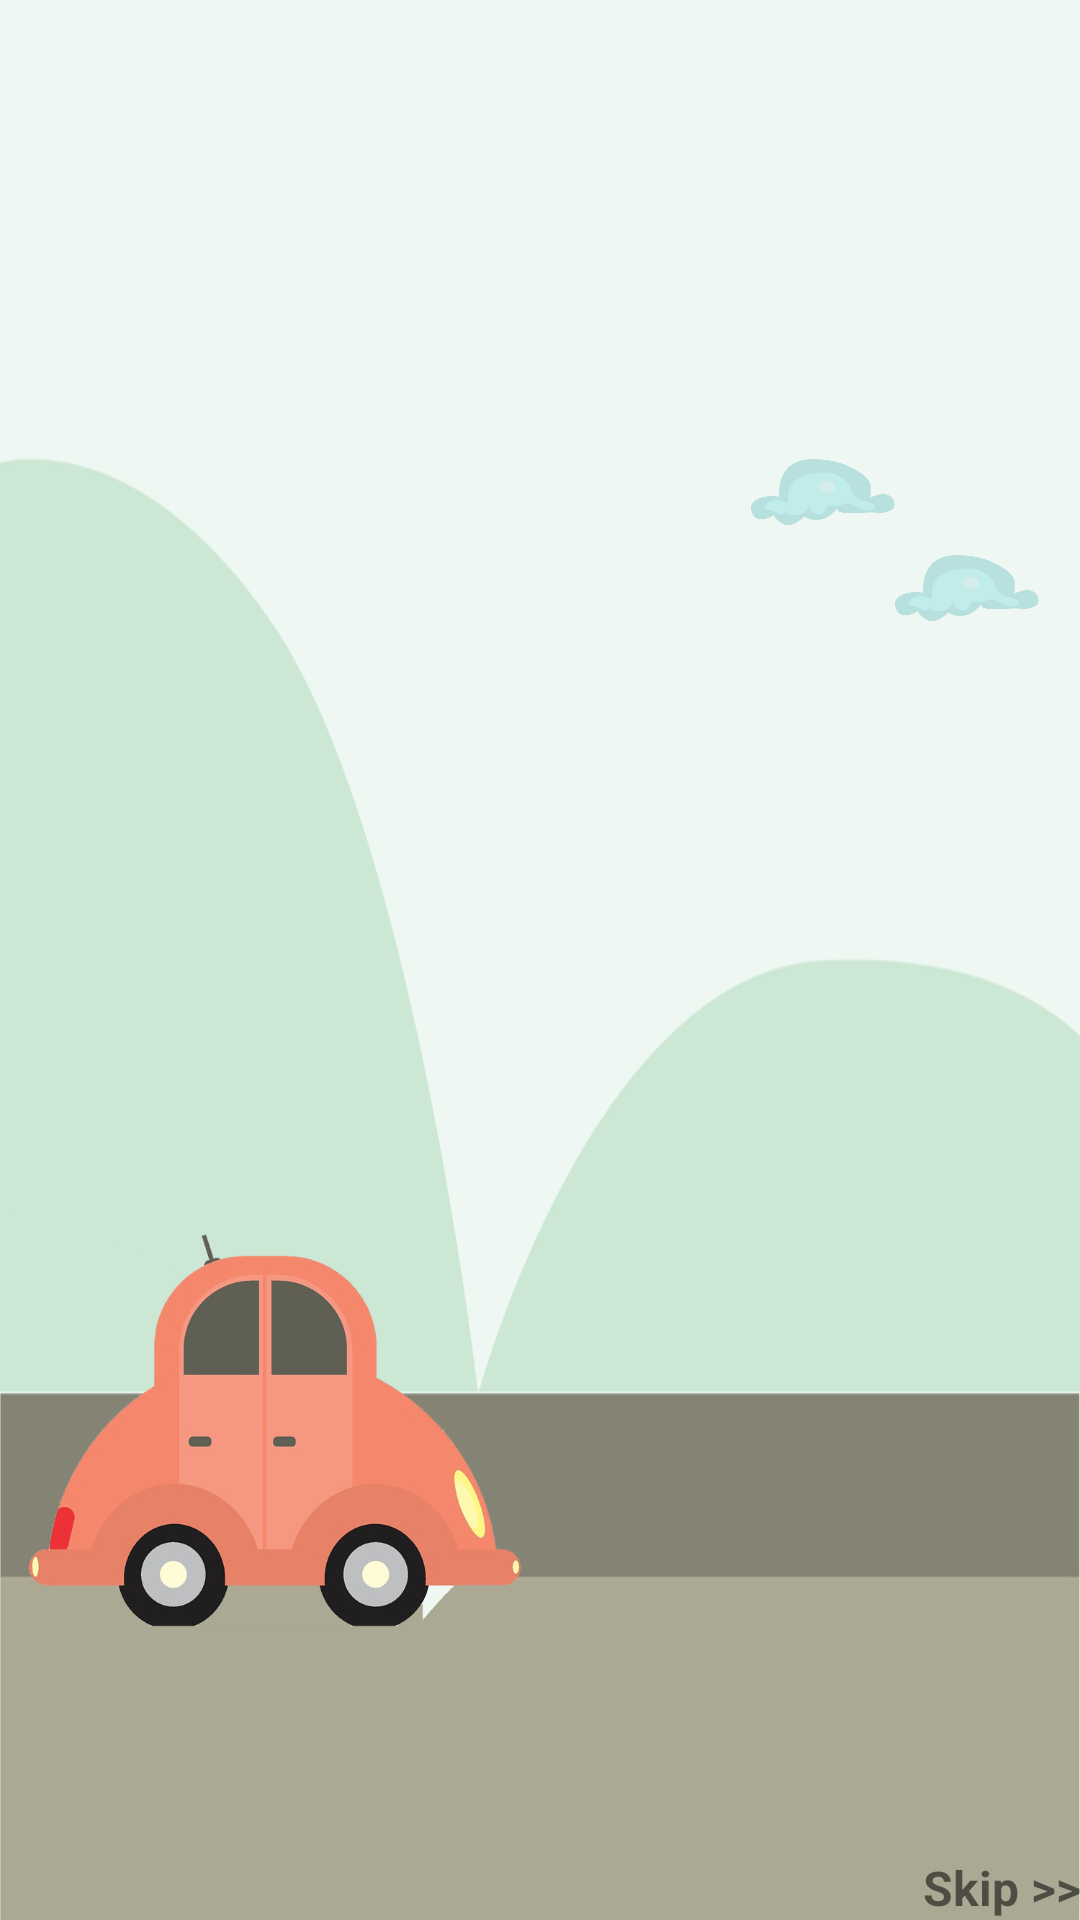

Locate icon controls on the screen. Image size 1080×1920, boxes as (x1, y1, x2, y2).
cloud: (751, 459, 895, 525), (895, 555, 1039, 621)
